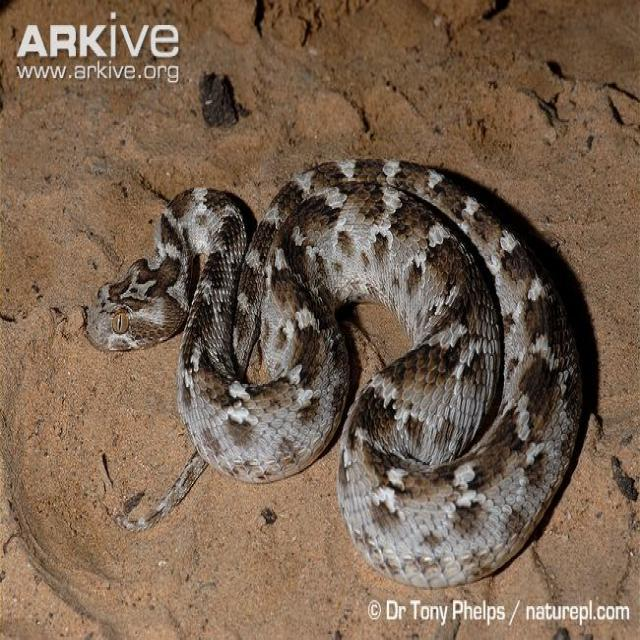Snake: (84, 154, 584, 588)
